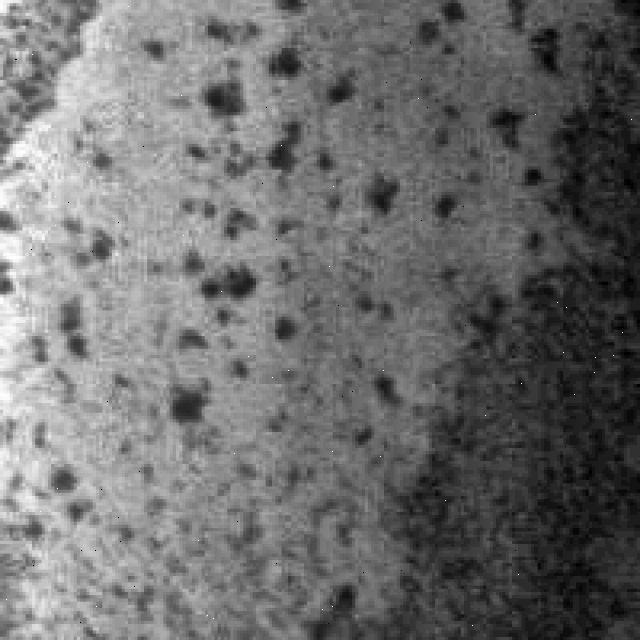Rolled_in_Scale: (368, 64, 634, 637), (108, 42, 356, 560), (3, 36, 118, 566)
